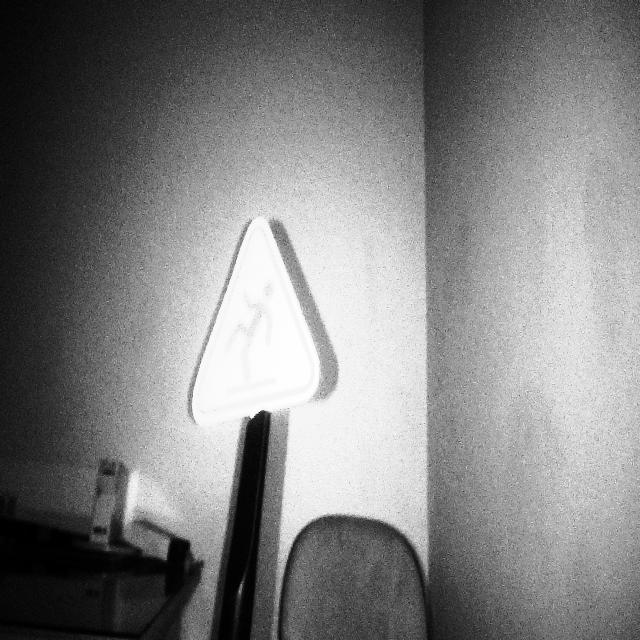Sign: (191, 216, 321, 428)
